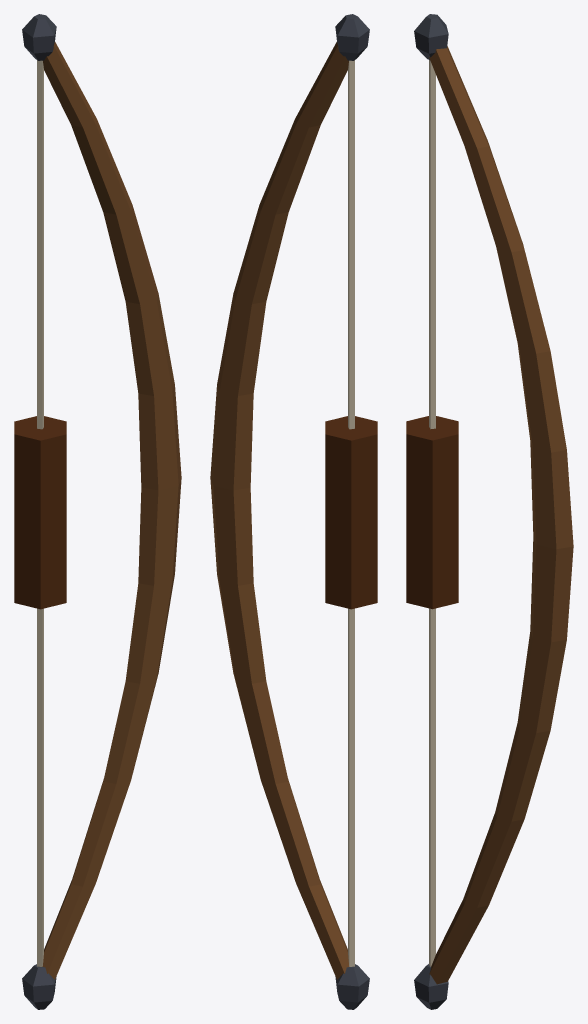
Rendered from wpn_bow_1.glb.
The picture shows the model from 3 angles, left to right: view 1: azimuth 30°, elevation 25°; view 2: azimuth 150°, elevation 25°; view 3: azimuth 330°, elevation 25°; orthographic projection.
Parts seen in each view (by area): view 1: wpn_bow_1; view 2: wpn_bow_1; view 3: wpn_bow_1.
Part boxes in pixels (left/top/right/bottom): wpn_bow_1: left=14, top=14, right=181, bottom=1009; wpn_bow_1: left=210, top=14, right=377, bottom=1009; wpn_bow_1: left=406, top=14, right=573, bottom=1009.
Size of the model in its own units: 0.166 by 0.94 by 0.045.
